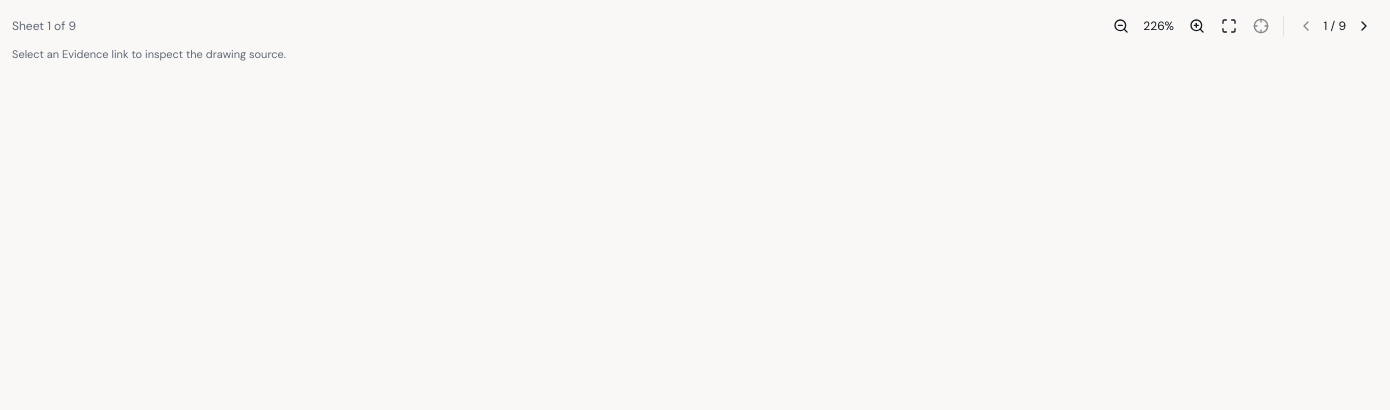
Test: PdfEvidenceViewer — page-filter fallback (Fix 2) › a box with no page and no source.page default does not appear after navigating to other pages either
Expected: the text "1 / 9" is shown, [1324, 18, 1346, 34]
Click the button titled "Next page".
click(1364, 26)  # box [1350, 12, 1378, 40]
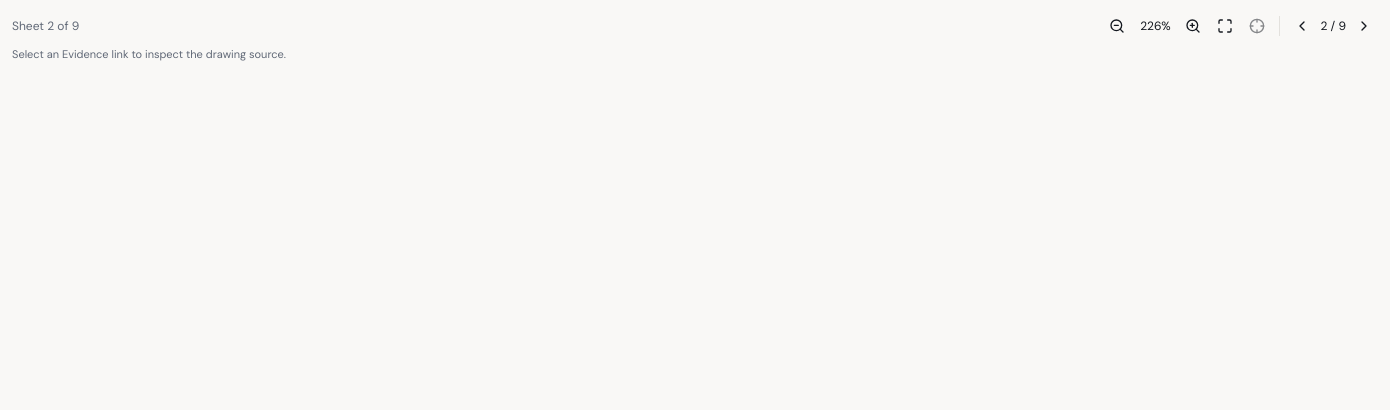
Click the button titled "Next page".
click(1364, 26)  # box [1350, 12, 1378, 40]
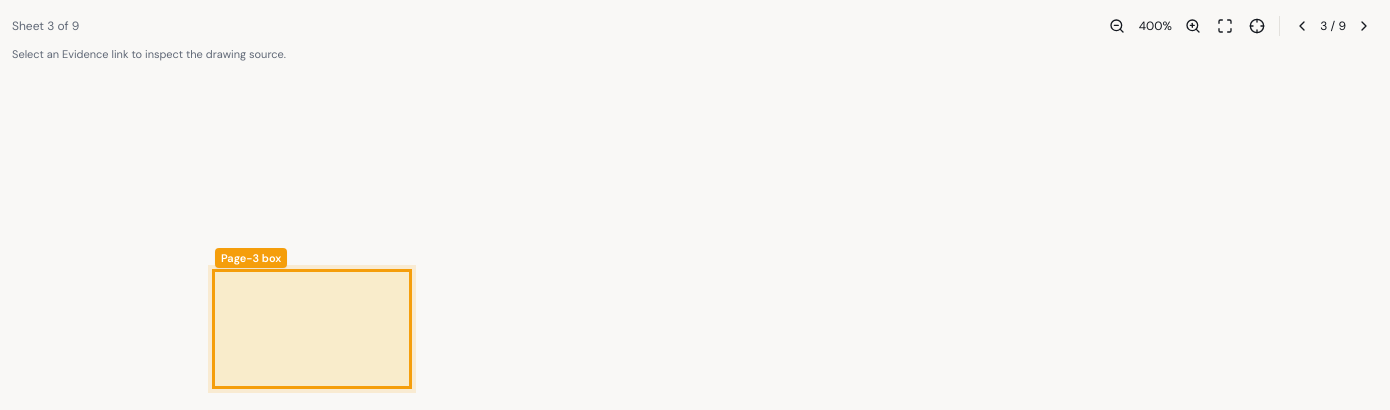
Expected: the text "Page-3 box" is shown, [215, 248, 287, 268]
